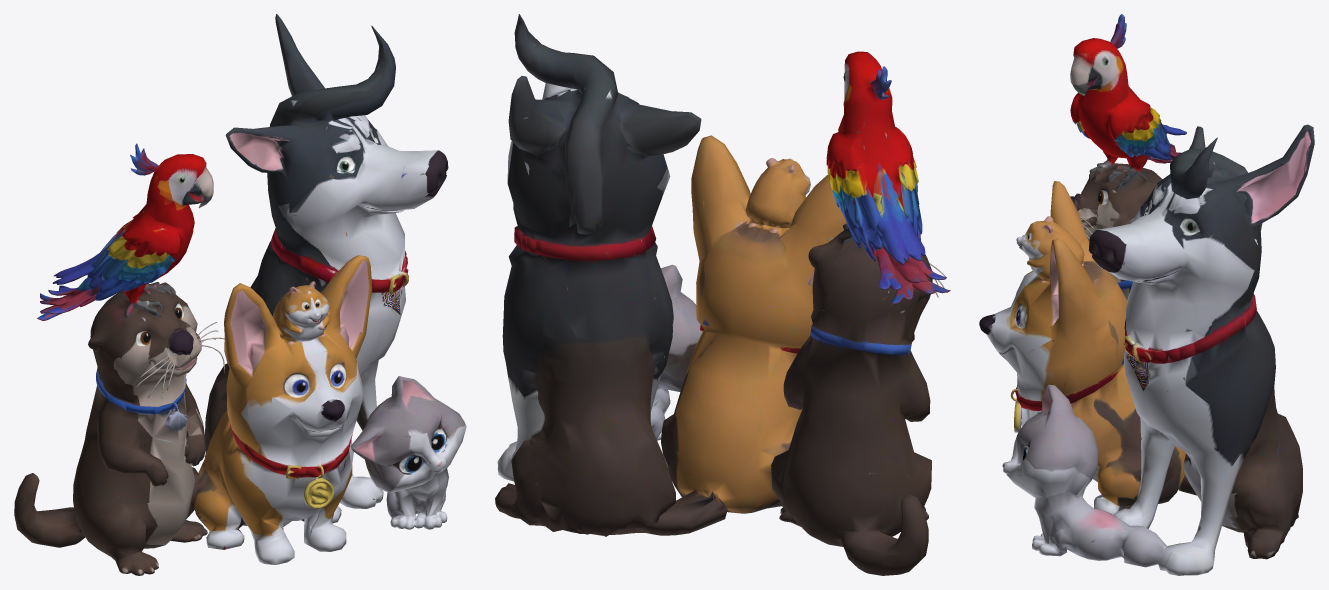
Rendered from Pet gang.glb.
The picture shows the model from 3 angles, left to right: view 1: azimuth 30°, elevation 25°; view 2: azimuth 150°, elevation 25°; view 3: azimuth 270°, elevation 25°; orthographic projection. The views are drawn at different scales.
Parts seen in each view (by area): view 1: Mesh_0; view 2: Mesh_0; view 3: Mesh_0.
Boxes of the visible parts, x1,y1,x2,y2 form: Mesh_0: (14,14,466,575); Mesh_0: (495,14,950,575); Mesh_0: (979,14,1314,575).
Size of the model in its own units: 1.82 by 1.9 by 1.35.
1 material, 1 textured.
